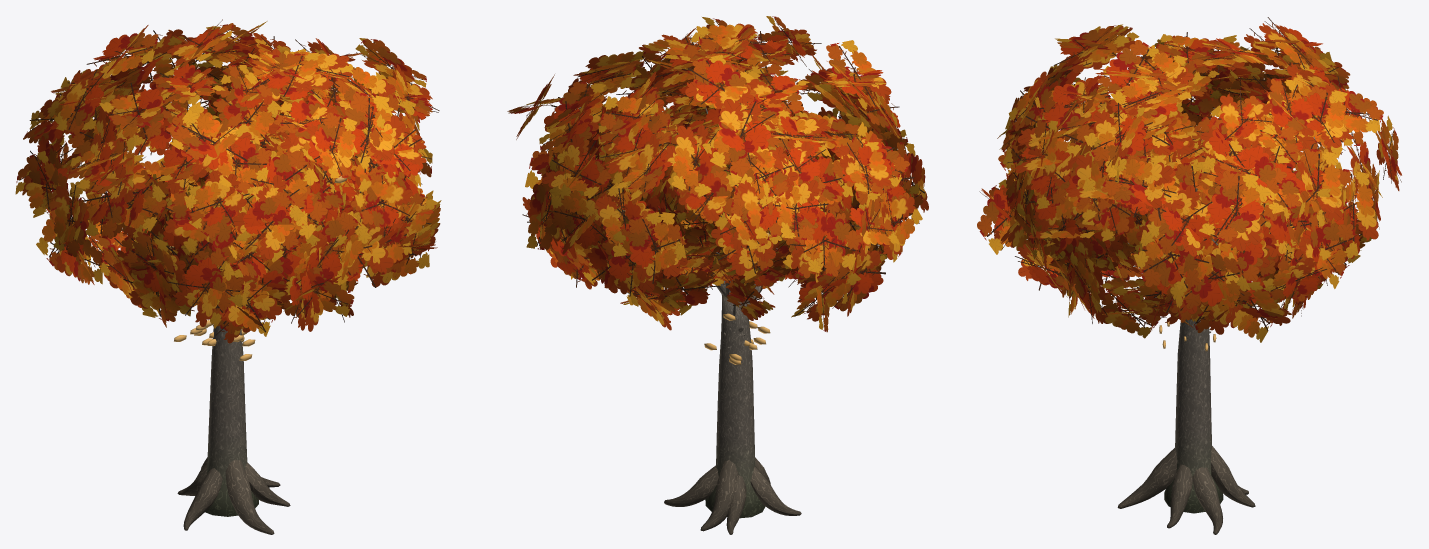
The model's file is tree_maple.glb.
The picture shows the model from 3 angles, left to right: view 1: azimuth 30°, elevation 25°; view 2: azimuth 150°, elevation 25°; view 3: azimuth 270°, elevation 25°; orthographic projection. The views are drawn at different scales.
Parts seen in each view (by area): view 1: Leaves, Trunk, Roots, Fruit; view 2: Leaves, Trunk, Roots, Fruit; view 3: Leaves, Trunk, Roots.
Boxes of the visible parts, x1,y1,x2,y2 form: Leaves: (15,19,441,343); Trunk: (205,306,258,516); Roots: (177,457,290,534); Fruit: (169,176,347,360); Leaves: (507,16,928,332); Trunk: (705,295,765,518); Roots: (664,458,801,534); Fruit: (621,210,881,364); Leaves: (977,17,1401,342); Trunk: (1164,319,1223,513); Roots: (1117,446,1255,534).
Bounding box in the file's own units: 6.3 × 6.98 × 5.89.
Materials: 3 (2 with a texture image).
